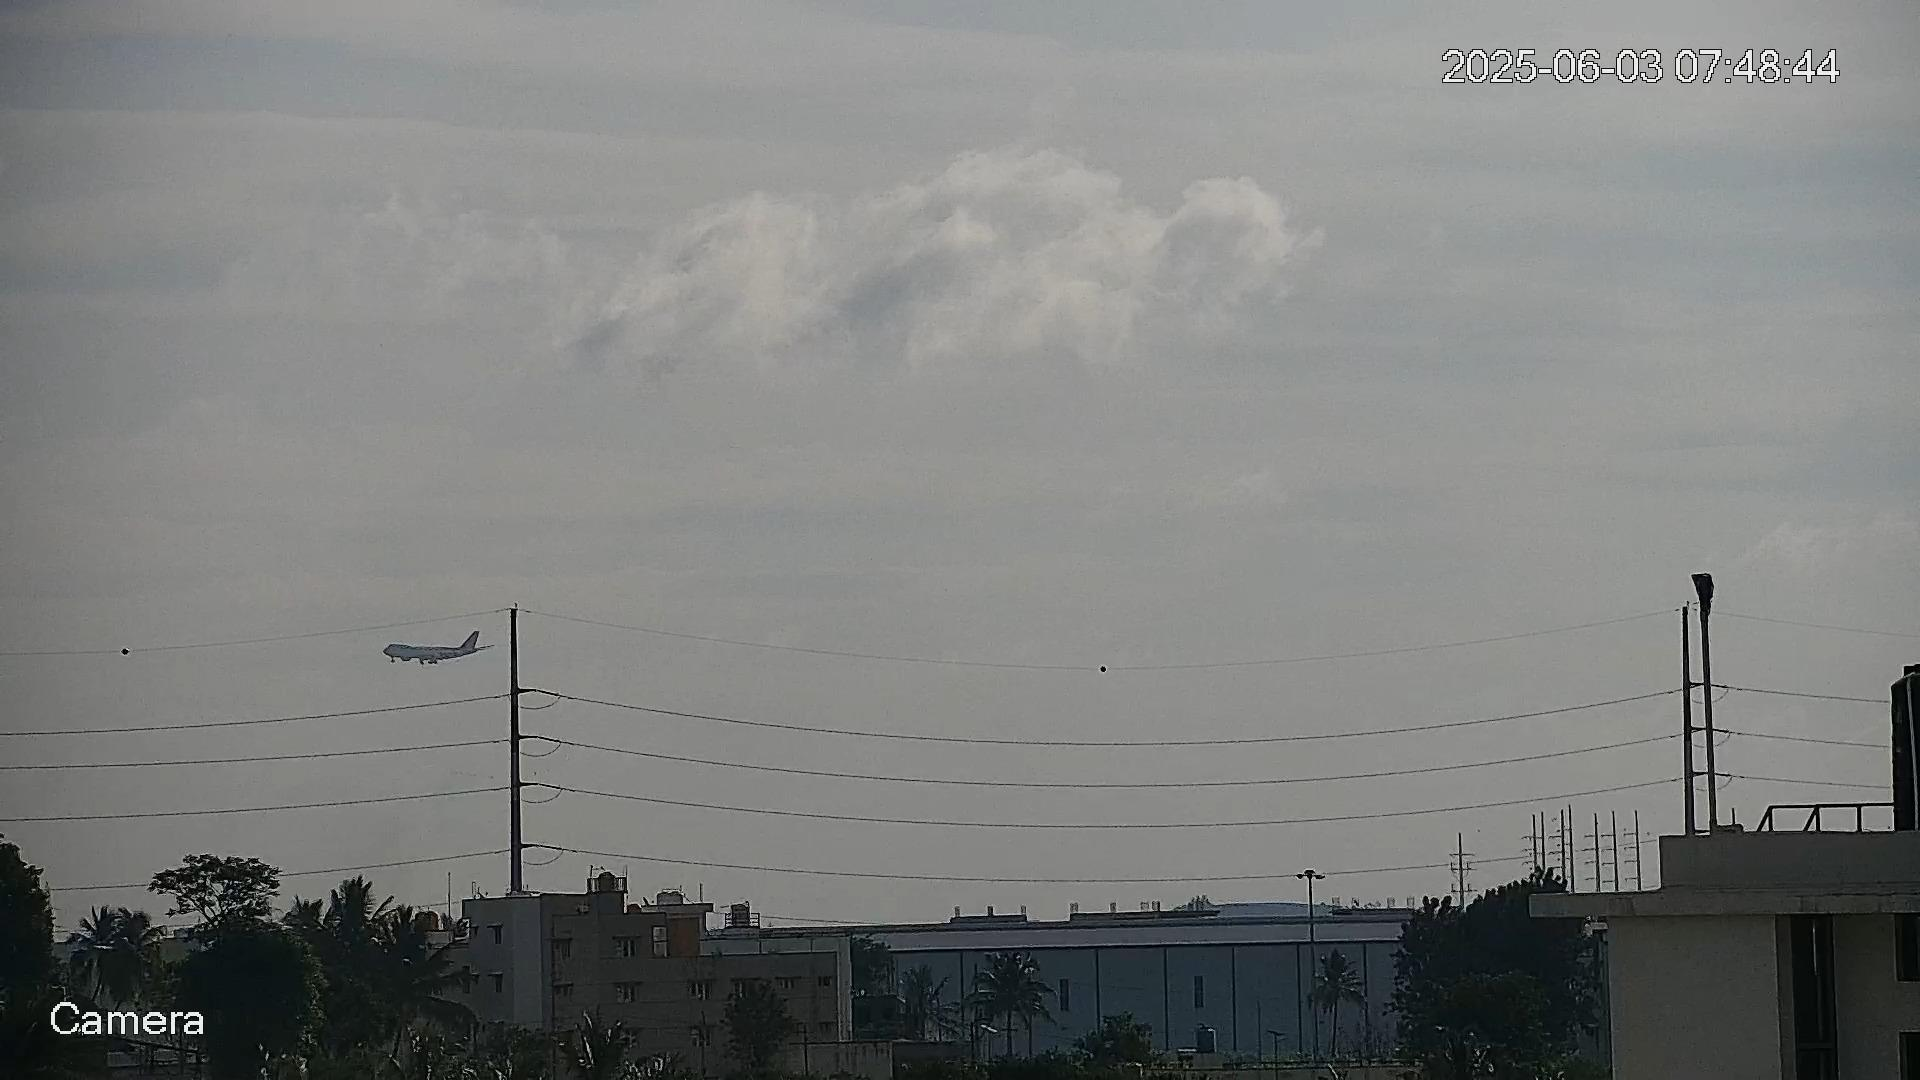Aircraft: (382, 630, 488, 667)
